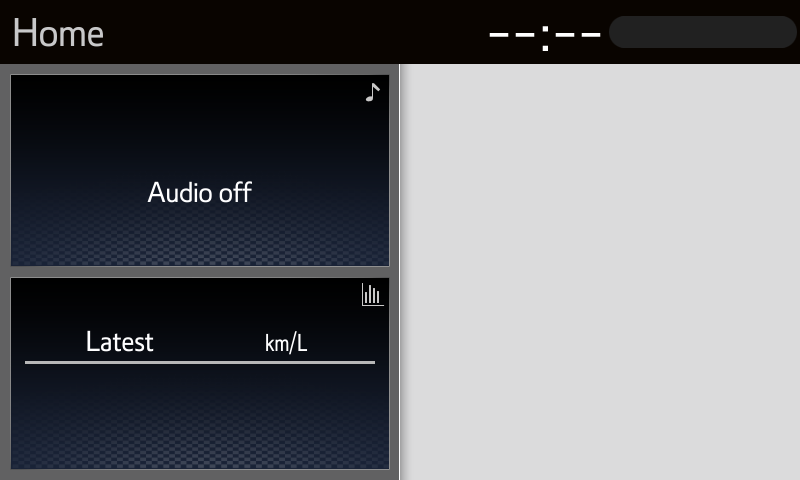touchPart: (12, 73, 389, 266), (13, 278, 392, 469)
untouchPart: (478, 7, 796, 58), (8, 12, 108, 55)
